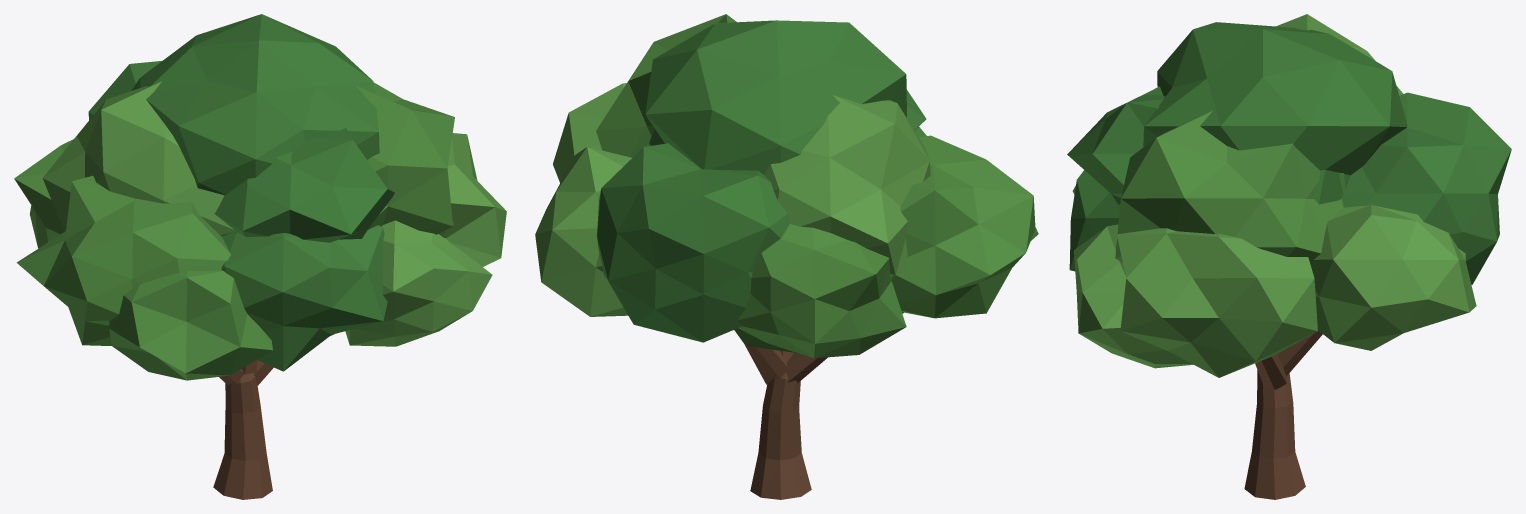
File: TREE_01.obj
The picture shows the model from 3 angles, left to right: view 1: azimuth 30°, elevation 25°; view 2: azimuth 150°, elevation 25°; view 3: azimuth 270°, elevation 25°; orthographic projection. The views are drawn at different scales.
Parts seen in each view (by area): view 1: foliage, trunk, branches; view 2: foliage, trunk, branches; view 3: foliage, trunk, branches.
Part boxes in pixels (<box>): foliage: <box>14,14,506,380</box>; trunk: <box>213,373,272,499</box>; branches: <box>219,360,273,385</box>; foliage: <box>535,14,1038,358</box>; trunk: <box>750,372,811,499</box>; branches: <box>734,329,827,384</box>; foliage: <box>1067,14,1511,377</box>; trunk: <box>1244,370,1305,499</box>; branches: <box>1255,330,1322,389</box>.
Bounding box in the file's own units: 12.96 × 12.75 × 11.1.
